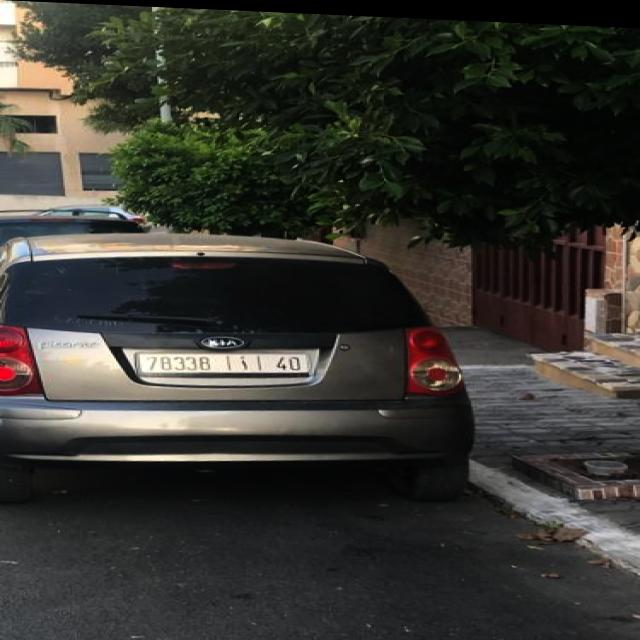License-Plate: (138, 350, 311, 375)
